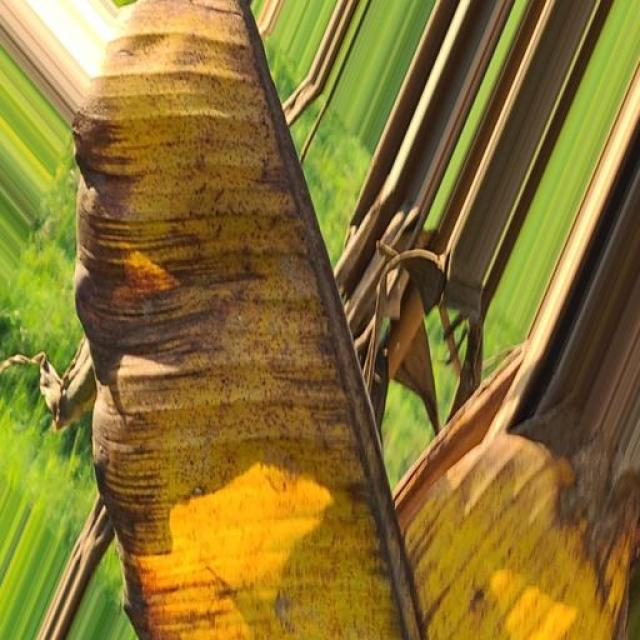Cordana: (34, 3, 640, 640)
